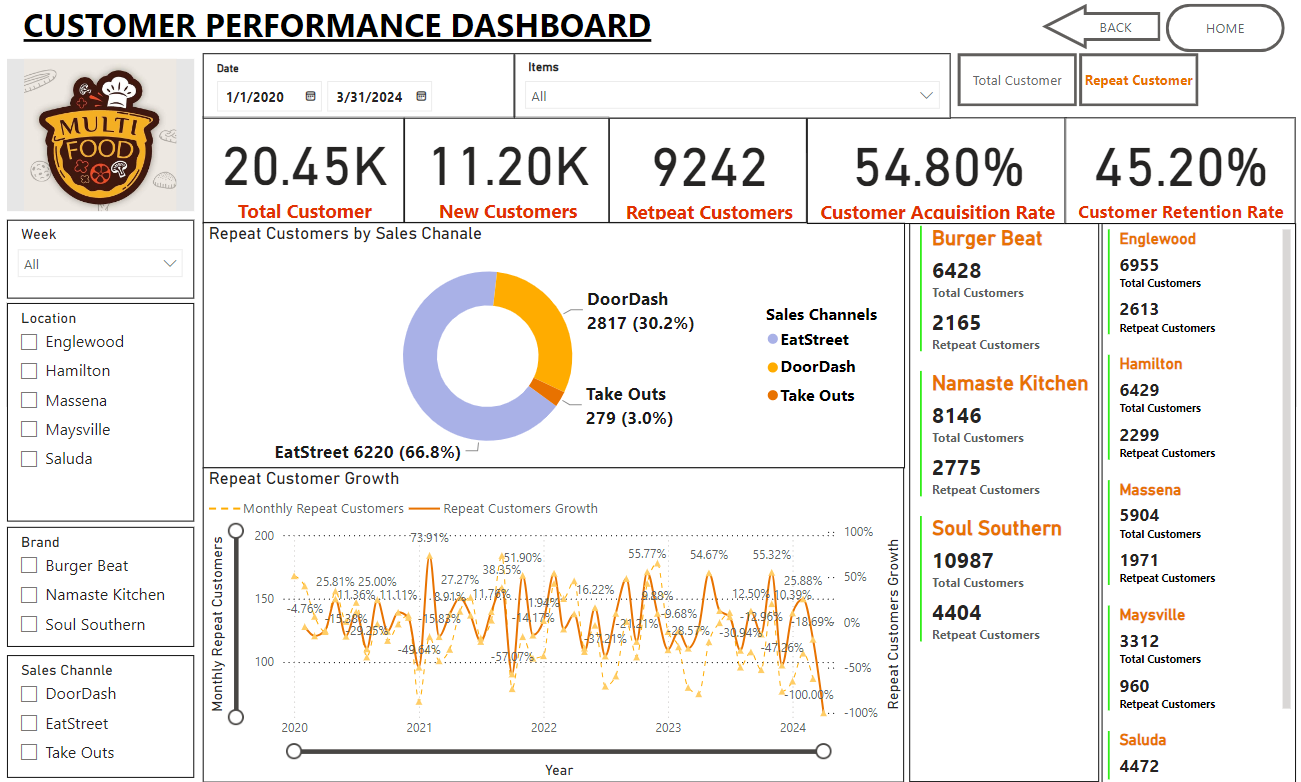

What the dashboard file says about the page in this screenshot:
{"tool":"powerbi","page":{"name":"REPEAT CUSTOMER PERFORMANCE","canvas":[1280,780],"ordinal":6},"visuals":[{"type":"image","box":[0,61.4,185.7,151.4],"z":0},{"type":"slicer","fields":{"Values":["Live Data.Location"]},"box":[0,303.3,185.4,217.2],"z":1000},{"type":"slicer","fields":{"Values":["Live Data.Week"]},"box":[0,221.2,185.4,78.1],"z":2000},{"type":"slicer","fields":{"Values":["Live Data.Brand"]},"box":[0,525.7,185.4,119.2],"z":3000},{"type":"textbox","box":[11.2,0,868.8,55],"z":4000},{"type":"card","fields":{"Values":["Count(Live Data.Customer Name)"]},"box":[194.2,118.3,200,106.7],"z":5000},{"type":"card","fields":{"Values":["Master Sales.Total New Customers"]},"box":[393.8,118.8,203.8,106.2],"z":6000},{"type":"card","fields":{"Values":["Master Sales.Retpeat Customers"]},"box":[597.5,119.2,196.7,105.8],"z":7000},{"type":"multiRowCard","title":"Total Customers by Outlet","fields":{"Values":["Live Data.Location","Live Data.Customer Name","Live Data.Retpeat Customers"]},"box":[1086,224,193,556],"z":8000},{"type":"donutChart","title":"Repeat Customers by Sales Chanale","fields":{"Category":["Live Data.Sales Channle"],"Y":["Sales Dataset.Retpeat Customers"]},"box":[194.3,223.6,697.1,244.3],"z":9000},{"type":"multiRowCard","title":"Total Customers by Brand","fields":{"Values":["Live Data.Brand","Live Data.Customer Name","Live Data.Retpeat Customers"]},"box":[895,224,188,555],"z":10000},{"type":"lineChart","title":"Repeat Customer Growth","fields":{"Category":["Sales Dataset.Date.Variation.Date Hierarchy.Year","Sales Dataset.Date.Variation.Date Hierarchy.Month"],"Y":["Sales Dataset.Monthly Repeat Customers"],"Y2":["Sales Dataset.Repeat Customers Growth"]},"box":[194.3,467.1,696.4,312.9],"z":11000},{"type":"card","fields":{"Values":["Live Data.Customer Acquisition Rate"]},"box":[793.3,119.2,257.5,105.8],"z":12000},{"type":"card","fields":{"Values":["Live Data.Customer Retention Rate"]},"box":[1050,119.2,229.2,105.8],"z":13000},{"type":"slicer","title":"Date","fields":{"Values":["Live Data.Payment Date"]},"box":[194.5,55.5,309.1,64.5],"z":14000},{"type":"slicer","fields":{"Values":["Live Data.Items"]},"box":[503.6,55.5,432.7,64.5],"z":15000},{"type":"slicer","fields":{"Values":["Live Data.Sales Channle"]},"box":[0,652.9,185.4,121.8],"z":16000},{"type":"actionButton","box":[943.7,55.9,118.6,52.9],"z":17000},{"type":"actionButton","box":[1064.3,56.1,118.6,52.9],"z":18000},{"type":"actionButton","box":[1149.9,6.9,118,48],"z":19000},{"type":"actionButton","box":[1027,6.8,117.8,45.2],"z":20000},{"type":"pivotTable","fields":{"Rows":["Sales Dataset.Date.Variation.Date Hierarchy.Year","Sales Dataset.Date.Variation.Date Hierarchy.Month"],"Values":["Sales Dataset.Retpeat Customers","Sales Dataset.Monthly Repeat Customers","Sales Dataset.Previous Month Repeat Customers","Sales Dataset.Repeat Customers Growth"]},"box":[588.8,149.3,691.5,299.9],"z":21000}]}

Visuals, with their boxes in screenshot pixels (x1, y1, x2, y2), scaled from the page's 1280x780 canvas onto the 1301x782 screenshot:
image: 0,62,189,213
slicer - Live Data.Location: 0,304,188,522
slicer - Live Data.Week: 0,222,188,300
slicer - Live Data.Brand: 0,527,188,647
textbox: 11,0,894,55
card - Count(Live Data.Customer Name): 197,119,401,226
card - Master Sales.Total New Customers: 400,119,607,226
card - Master Sales.Retpeat Customers: 607,120,807,226
"Total Customers by Outlet" multiRowCard: 1104,225,1300,781
"Repeat Customers by Sales Chanale" donutChart: 197,224,906,469
"Total Customers by Brand" multiRowCard: 910,225,1101,781
"Repeat Customer Growth" lineChart: 197,468,905,781
card - Live Data.Customer Acquisition Rate: 806,120,1068,226
card - Live Data.Customer Retention Rate: 1067,120,1300,226
"Date" slicer: 198,56,512,120
slicer - Live Data.Items: 512,56,952,120
slicer - Live Data.Sales Channle: 0,655,188,777
actionButton: 959,56,1080,109
actionButton: 1082,56,1202,109
actionButton: 1169,7,1289,55
actionButton: 1044,7,1164,52
pivotTable - Sales Dataset.Date.Variation.Date Hierarchy.Year x Sales Dataset.Date.Variation.Date Hierarchy.Month: 598,150,1300,450
